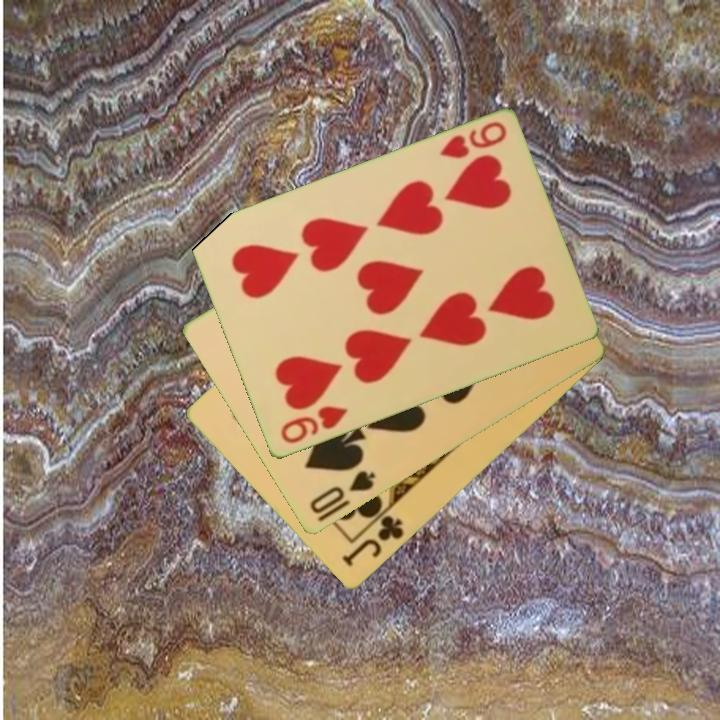10s: (306, 467, 379, 518)
9h: (435, 118, 510, 163), (277, 402, 351, 447)
Jc: (338, 512, 407, 571)
